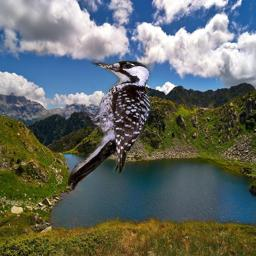Woodpecker: (68, 60, 152, 190)
